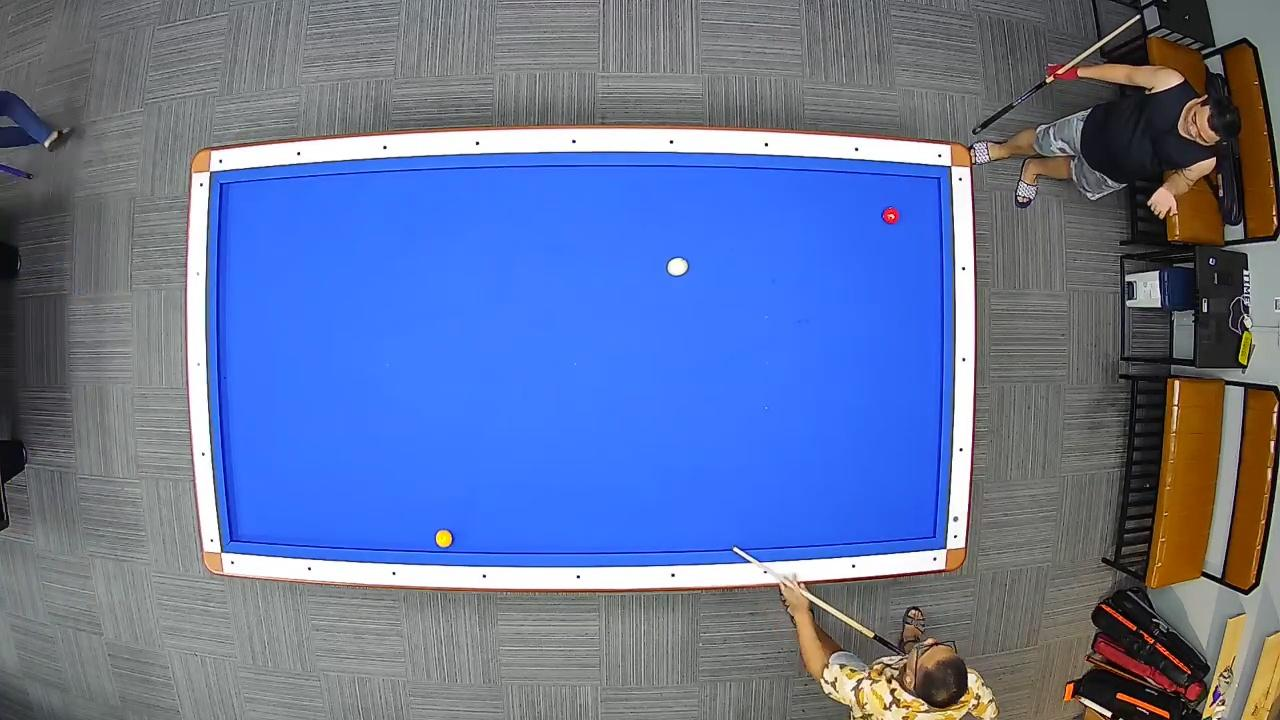Red: (879, 205, 900, 225)
Yellow: (664, 256, 689, 280), (432, 526, 454, 550)
